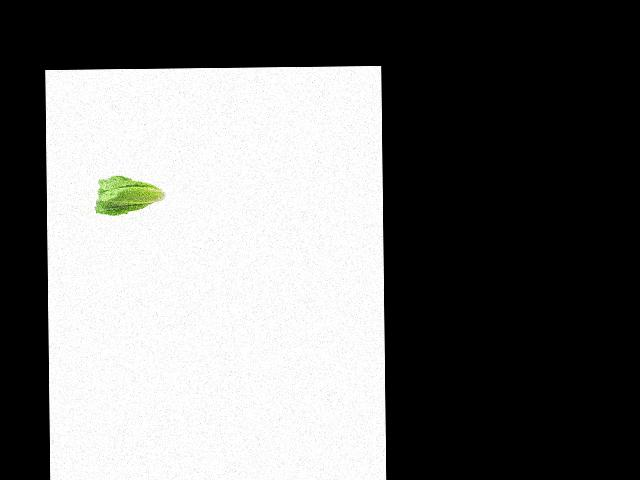lettuce: (93, 172, 166, 219)
